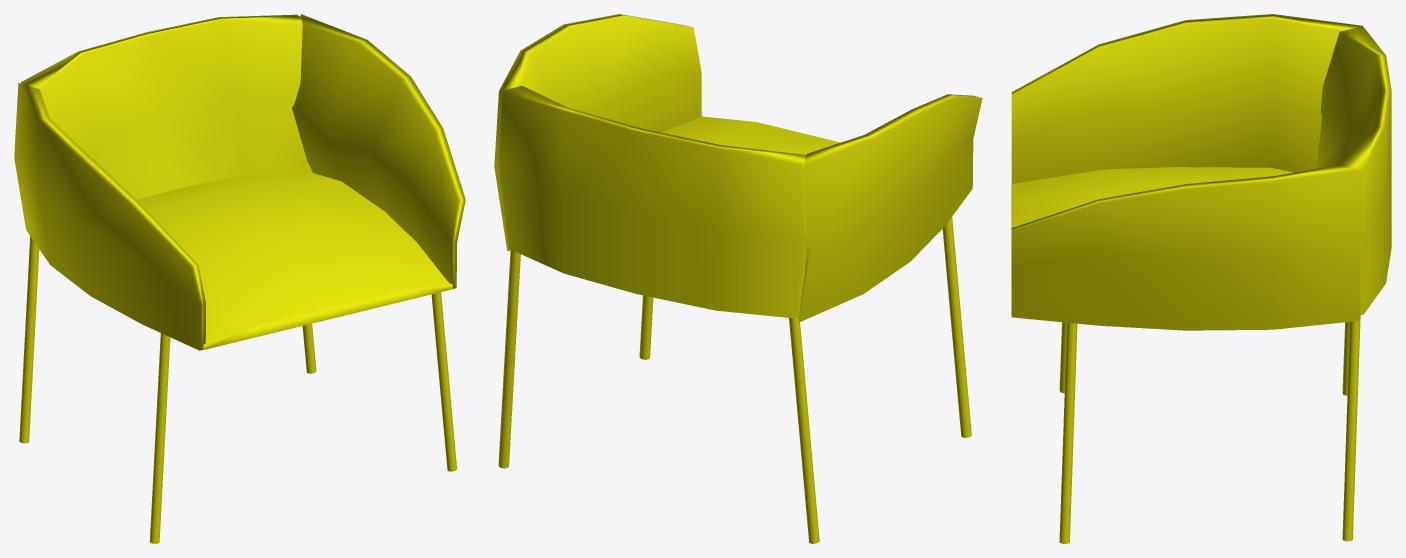
The model's file is SILLOTA.fbx.
The picture shows the model from 3 angles, left to right: view 1: azimuth 30°, elevation 25°; view 2: azimuth 150°, elevation 25°; view 3: azimuth 270°, elevation 25°; orthographic projection. The views are drawn at different scales.
Parts seen in each view (by area): view 1: SILLOTA; view 2: SILLOTA; view 3: SILLOTA.
Boxes of the visible parts, box(x1,y1,x2,y2) form: SILLOTA: box(14, 14, 465, 543); SILLOTA: box(494, 14, 982, 543); SILLOTA: box(1011, 14, 1391, 543).
Size of the model in its own units: 1.15 by 1.18 by 1.09.
